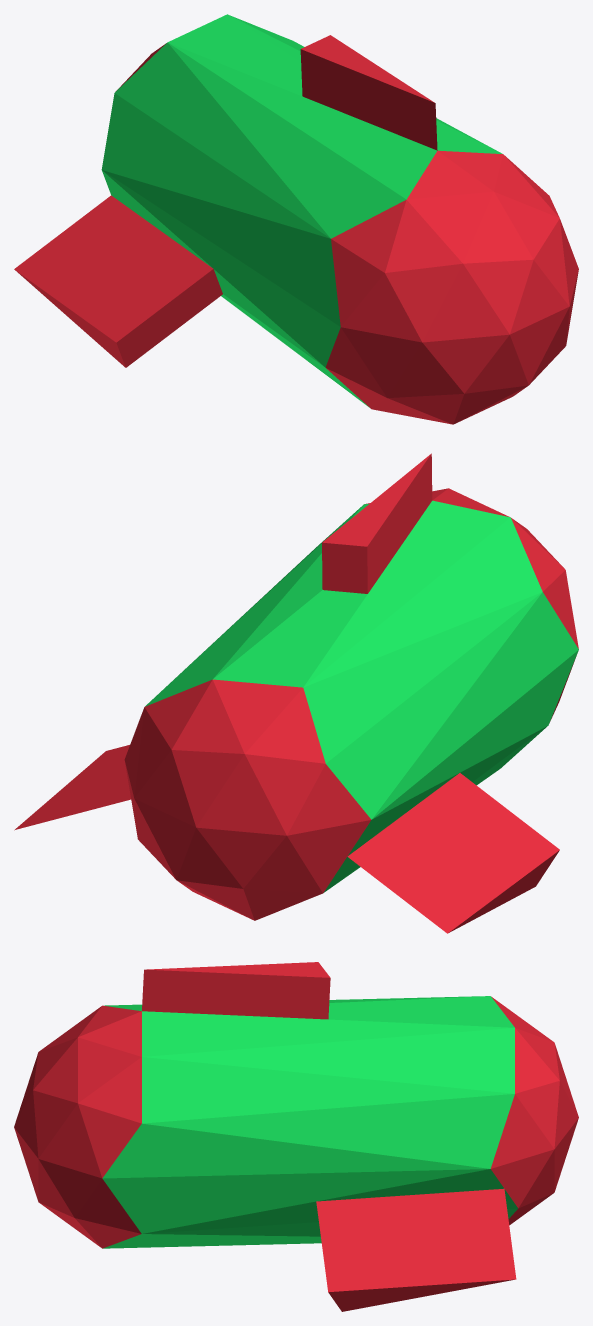
The model's file is DefaultLure.glb.
3 views of the same model, one above another, from view 1: azimuth 30°, elevation 25°; view 2: azimuth 150°, elevation 25°; view 3: azimuth 270°, elevation 25° (orthographic). The views are drawn at different scales.
Parts seen in each view (by area): view 1: Icosphere; view 2: Icosphere; view 3: Icosphere.
Part boxes in pixels (x1,y1,x2,y2): Icosphere: (14,14,578,424); Icosphere: (14,453,578,933); Icosphere: (14,962,578,1311).
Bounding box in the file's own units: 3.45 × 2.36 × 4.42.
